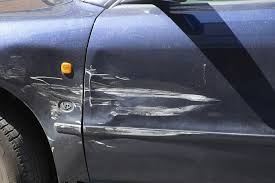Smashed: (29, 69, 220, 147)
